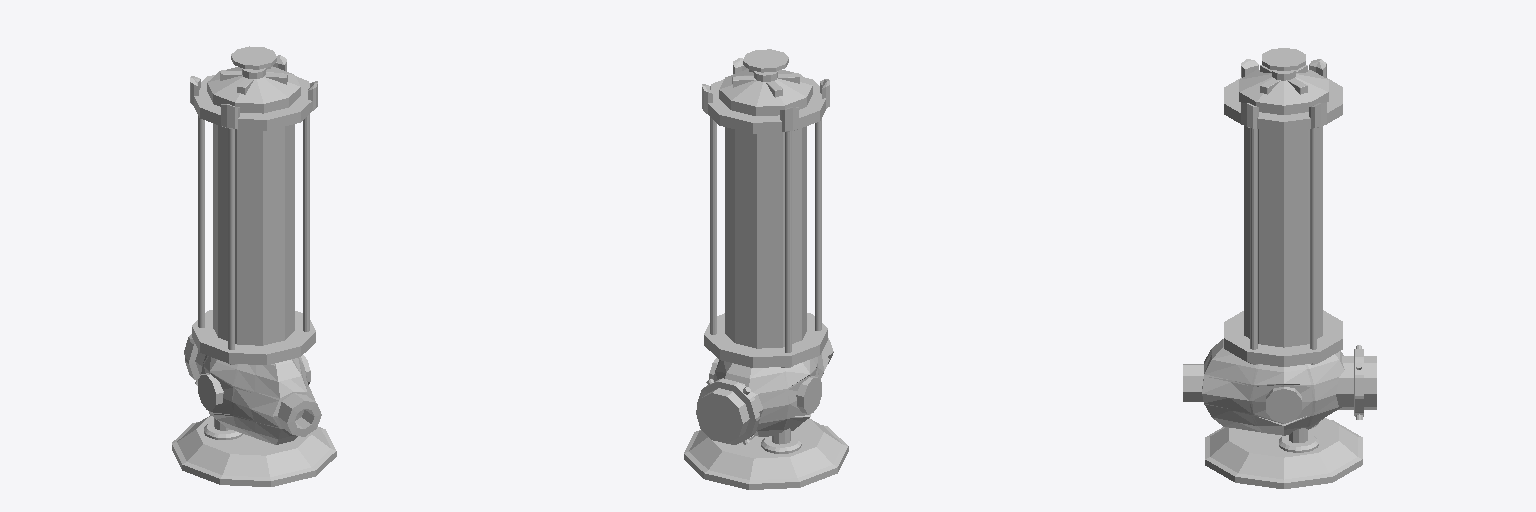
The model's file is chemicalblender.obj.
The picture shows the model from 3 angles: view 1: azimuth 30°, elevation 25°; view 2: azimuth 150°, elevation 25°; view 3: azimuth 270°, elevation 25°; orthographic projection.
Visible parts, largest first — view 1: pCylinder13, pCylinder10, body_low, pCylinder12, pCylinder16, pCylinder11, pCylinder17, pCylinder15, pCylinder19, pCylinder8; view 2: pCylinder13, pCylinder10, pCylinder12, body_low, pCylinder16, pCylinder11, pCylinder17, pCylinder1, pCylinder2, pCylinder19, pCylinder8; view 3: pCylinder13, body_low, pCylinder10, pCylinder12, pCylinder16, pCylinder11, pCylinder17, pCylinder1, pCylinder7, pCylinder19, pCylinder15, pCylinder2.
Boxes of the visible parts, <box> form: pCylinder13: <box>213,123,294,345</box>; pCylinder10: <box>172,415,336,486</box>; body_low: <box>201,355,315,444</box>; pCylinder12: <box>198,114,309,349</box>; pCylinder16: <box>190,55,317,130</box>; pCylinder11: <box>192,310,315,364</box>; pCylinder17: <box>207,66,300,113</box>; pCylinder15: <box>278,393,321,436</box>; pCylinder19: <box>231,46,276,69</box>; pCylinder8: <box>198,373,223,410</box>; pCylinder13: <box>725,126,806,348</box>; pCylinder10: <box>684,418,848,489</box>; pCylinder12: <box>710,117,821,352</box>; body_low: <box>714,350,829,436</box>; pCylinder16: <box>702,58,829,133</box>; pCylinder11: <box>704,313,827,367</box>; pCylinder17: <box>719,69,812,115</box>; pCylinder1: <box>696,383,762,443</box>; pCylinder2: <box>697,378,759,444</box>; pCylinder19: <box>743,49,788,72</box>; pCylinder8: <box>796,376,821,413</box>; pCylinder13: <box>1244,126,1322,347</box>; body_low: <box>1202,339,1344,435</box>; pCylinder10: <box>1205,418,1362,488</box>; pCylinder12: <box>1250,128,1316,349</box>; pCylinder16: <box>1224,59,1342,132</box>; pCylinder11: <box>1224,310,1342,366</box>; pCylinder17: <box>1239,70,1328,114</box>; pCylinder1: <box>1336,356,1376,409</box>; pCylinder7: <box>1266,387,1301,422</box>; pCylinder19: <box>1262,48,1305,70</box>; pCylinder15: <box>1183,364,1203,401</box>; pCylinder2: <box>1354,349,1363,416</box>.
Bounding box in the file's own units: 3.07 × 8.11 × 3.6.